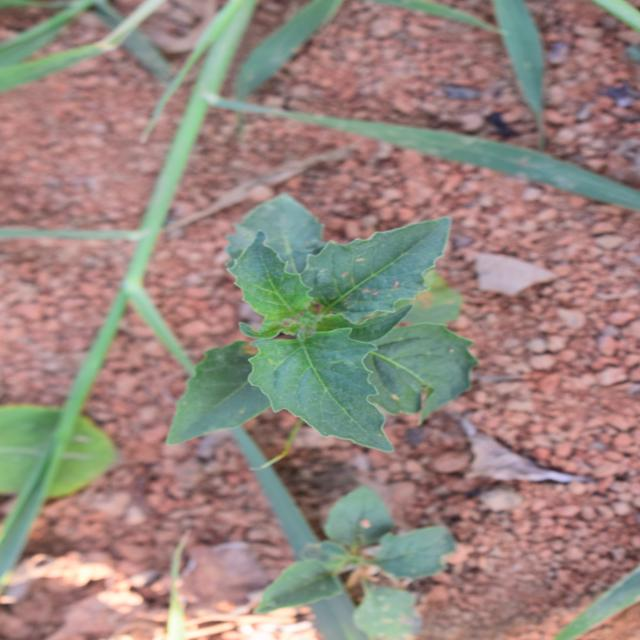Black_nightshade: (180, 160, 438, 468)
